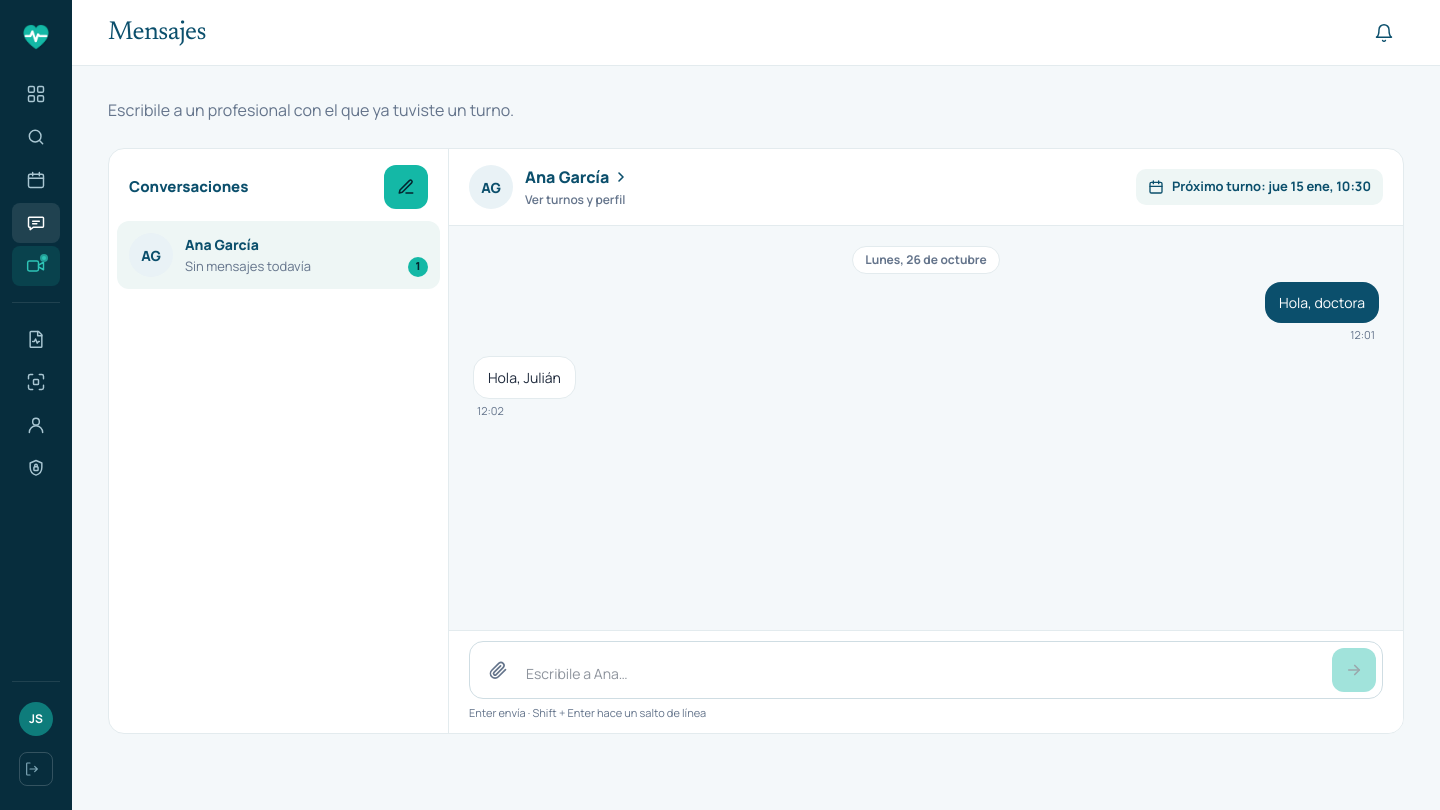
MessagesPage (ENG-70) › el nombre abre el panel con el próximo turno y los anteriores con esa persona
The image size is (1440, 810).
Click the button with aria-label "Ver información de Ana García".
click(552, 187)  # box [463,159,641,215]
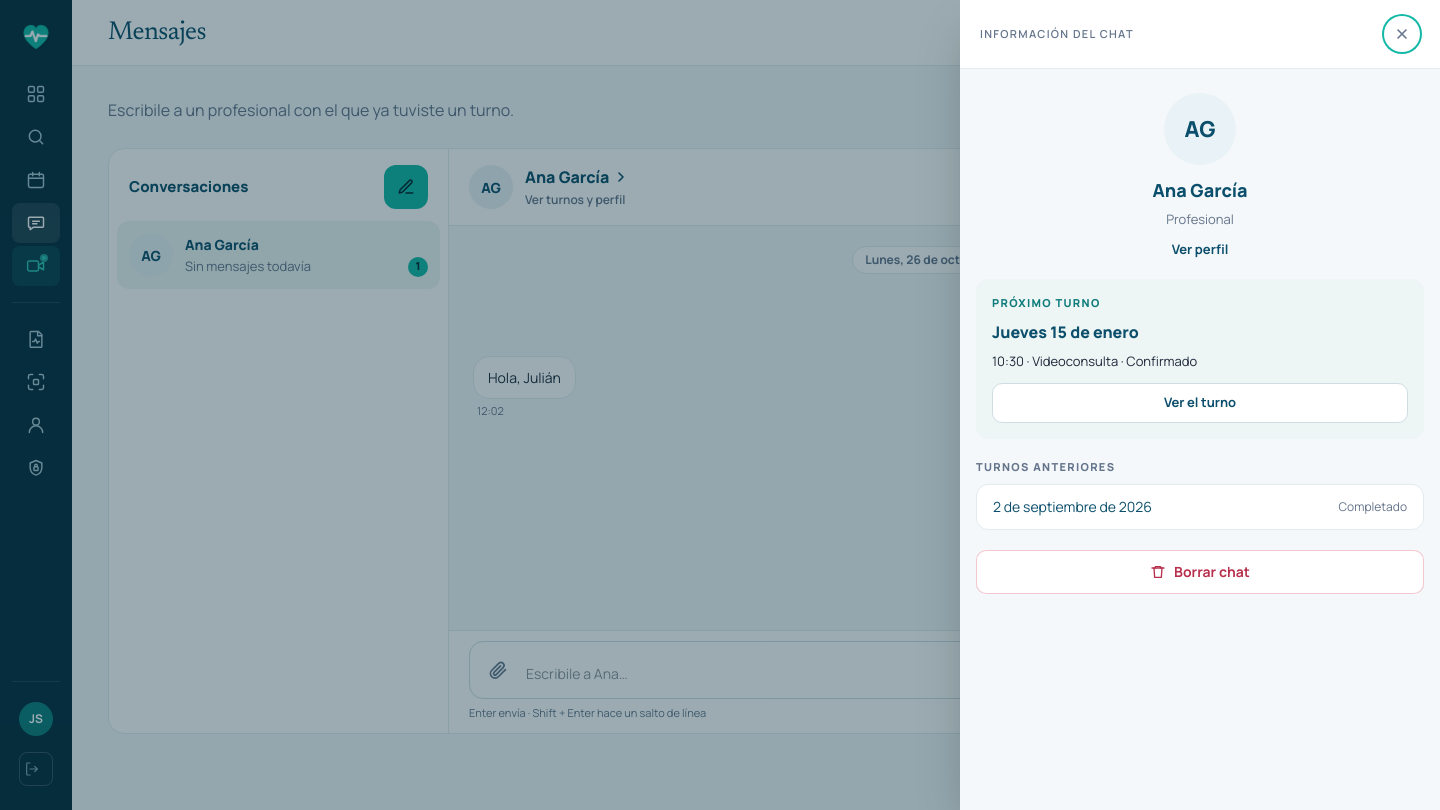
Now the link "2 de septiembre de 2026 Completado" is shown, box [993,497,1407,516]
